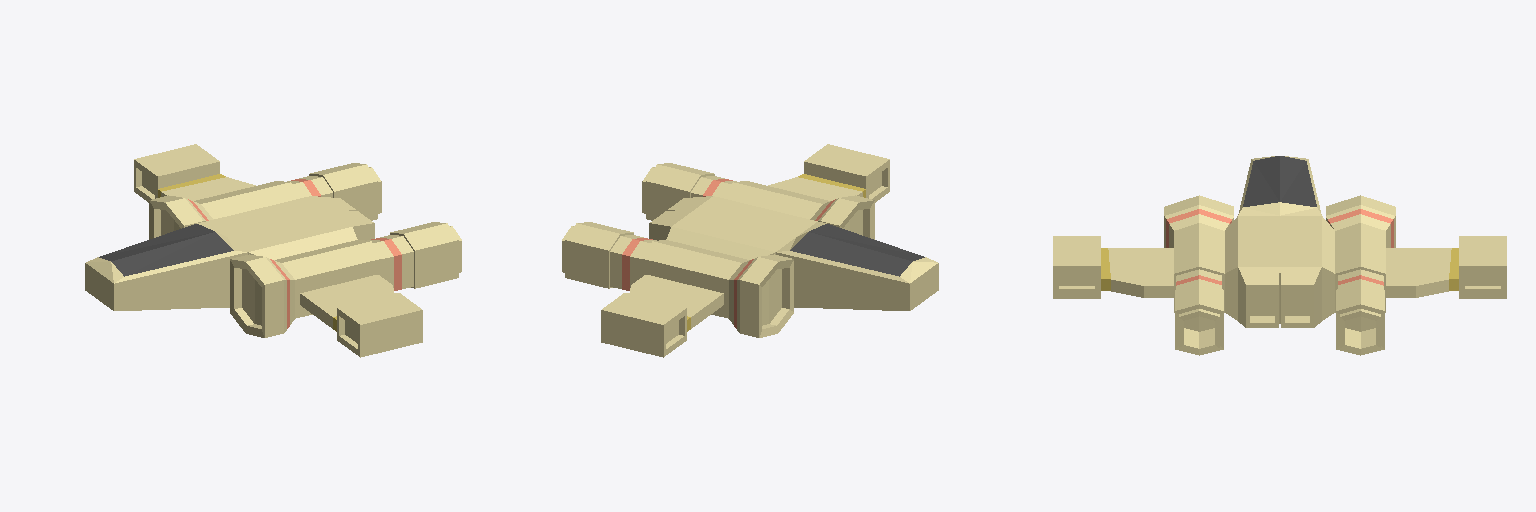
3 renders of one model, left to right at view 1: azimuth 30°, elevation 25°; view 2: azimuth 150°, elevation 25°; view 3: azimuth 270°, elevation 25°, orthographic.
Visible parts, largest first — view 1: Cube_Cube.003; view 2: Cube_Cube.003; view 3: Cube_Cube.003.
Part boxes in pixels (x1,y1,x2,y2): Cube_Cube.003: (85, 144, 461, 357); Cube_Cube.003: (562, 144, 938, 357); Cube_Cube.003: (1053, 156, 1506, 355).
Bounding box in the file's own units: 5.99 × 1.32 × 7.51.
1 materials, 1 textured.